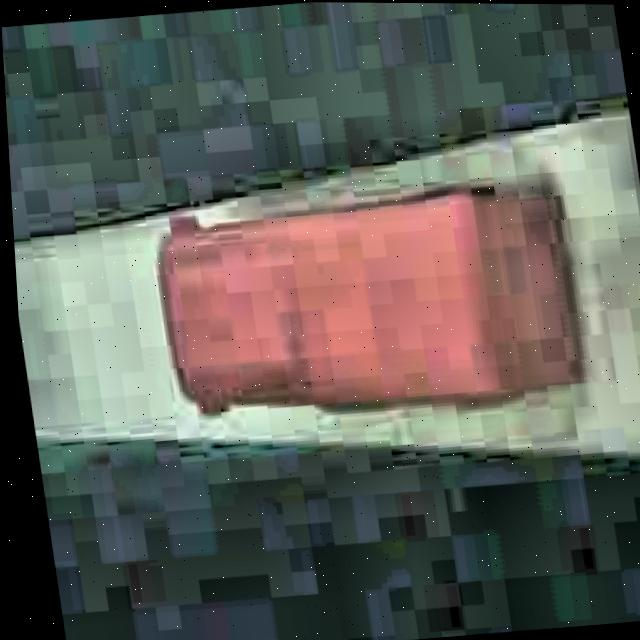bus: (141, 167, 592, 439)
